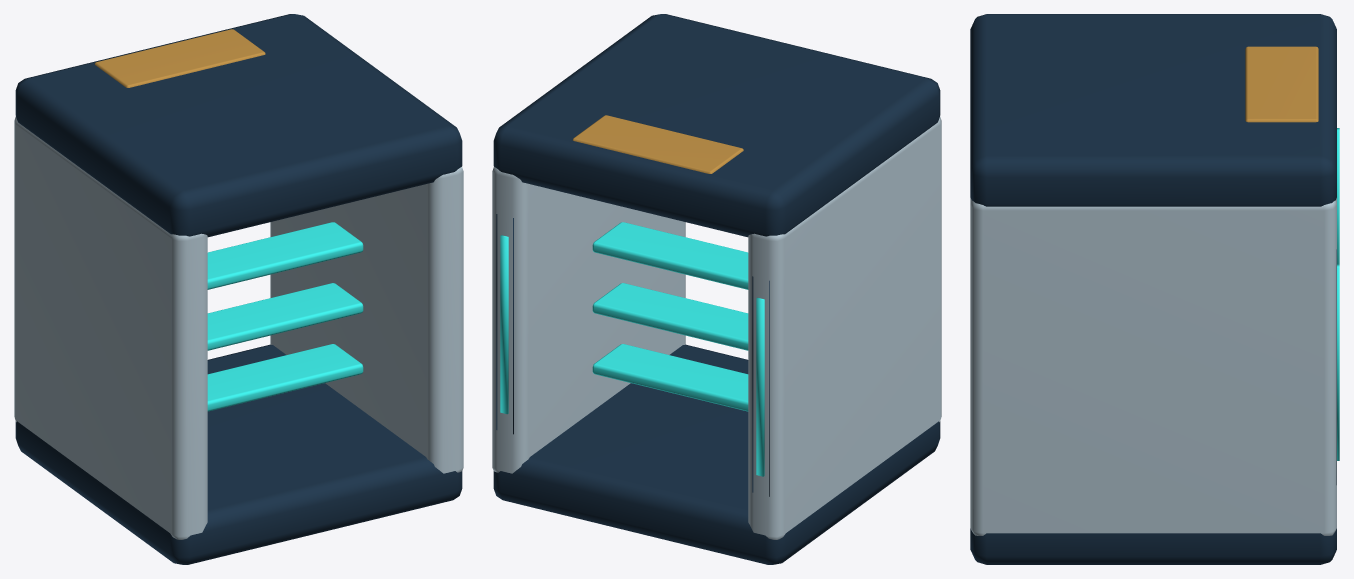
Rendered from gate.glb.
3 renders of one model, left to right at view 1: azimuth 30°, elevation 25°; view 2: azimuth 150°, elevation 25°; view 3: azimuth 270°, elevation 25°, orthographic. The views are drawn at different scales.
Visible parts, largest first — view 1: Gate upper bridge, Gate sculpted pillar, Gate solid sill, Gate sculpted pillar.001, Gate luminous energy rail.001, Gate luminous energy rail.002, Gate luminous energy rail, Gate bridge gold crest; view 2: Gate upper bridge, Gate sculpted pillar, Gate solid sill, Gate sculpted pillar.001, Gate luminous energy rail.001, Gate luminous energy rail.002, Gate luminous energy rail, Gate bridge gold crest, Gate pillar energy indicator.001, Gate pillar energy indicator, Gate pillar recessed channel, Gate pillar recessed channel.001; view 3: Gate sculpted pillar.001, Gate upper bridge, Gate solid sill, Gate bridge gold crest, Gate pillar energy indicator.001.
Boxes of the visible parts, x1=… form: Gate upper bridge: x1=15, y1=14, x2=462, y2=237; Gate sculpted pillar: x1=14, y1=116, x2=207, y2=539; Gate solid sill: x1=15, y1=344, x2=462, y2=564; Gate sculpted pillar.001: x1=270, y1=167, x2=463, y2=473; Gate luminous energy rail.001: x1=207, y1=283, x2=363, y2=350; Gate luminous energy rail.002: x1=207, y1=222, x2=363, y2=289; Gate luminous energy rail: x1=207, y1=344, x2=363, y2=411; Gate bridge gold crest: x1=94, y1=29, x2=265, y2=87; Gate upper bridge: x1=493, y1=14, x2=940, y2=237; Gate sculpted pillar: x1=748, y1=116, x2=941, y2=539; Gate solid sill: x1=493, y1=344, x2=940, y2=564; Gate sculpted pillar.001: x1=492, y1=167, x2=685, y2=473; Gate luminous energy rail.001: x1=592, y1=283, x2=748, y2=350; Gate luminous energy rail.002: x1=592, y1=222, x2=748, y2=289; Gate luminous energy rail: x1=592, y1=344, x2=748, y2=411; Gate bridge gold crest: x1=572, y1=115, x2=743, y2=173; Gate pillar energy indicator.001: x1=500, y1=235, x2=508, y2=414; Gate pillar energy indicator: x1=756, y1=297, x2=764, y2=476; Gate pillar recessed channel: x1=752, y1=276, x2=769, y2=496; Gate pillar recessed channel.001: x1=496, y1=214, x2=513, y2=434; Gate sculpted pillar.001: x1=970, y1=198, x2=1336, y2=535; Gate upper bridge: x1=970, y1=14, x2=1336, y2=206; Gate solid sill: x1=970, y1=528, x2=1336, y2=564; Gate bridge gold crest: x1=1245, y1=46, x2=1318, y2=122; Gate pillar energy indicator.001: x1=1337, y1=264, x2=1339, y2=460.
Bounding box in the file's own units: 1 × 1.24 × 1.01.
